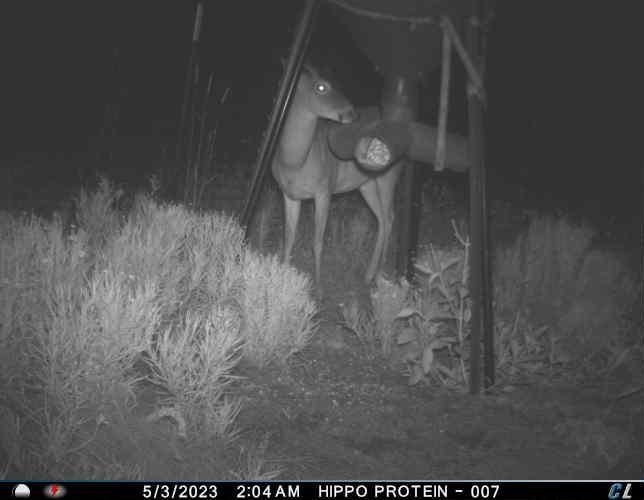Deer: (271, 54, 402, 296)
